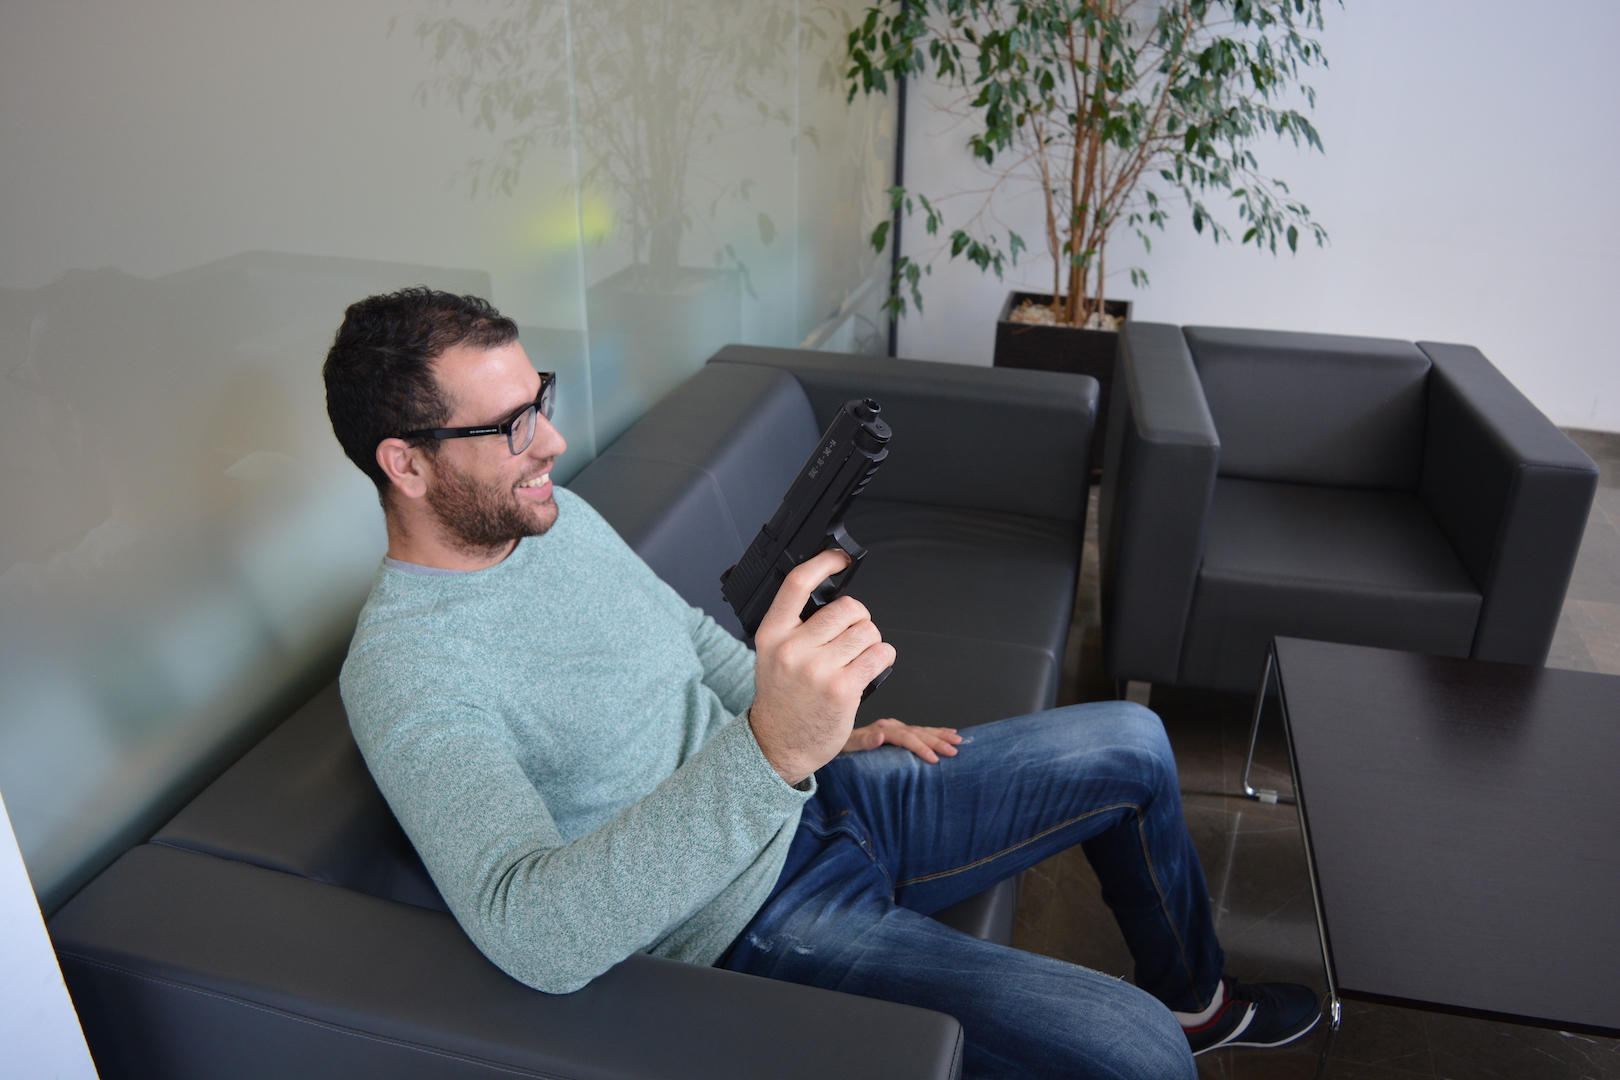pistol: (720, 398, 894, 705)
